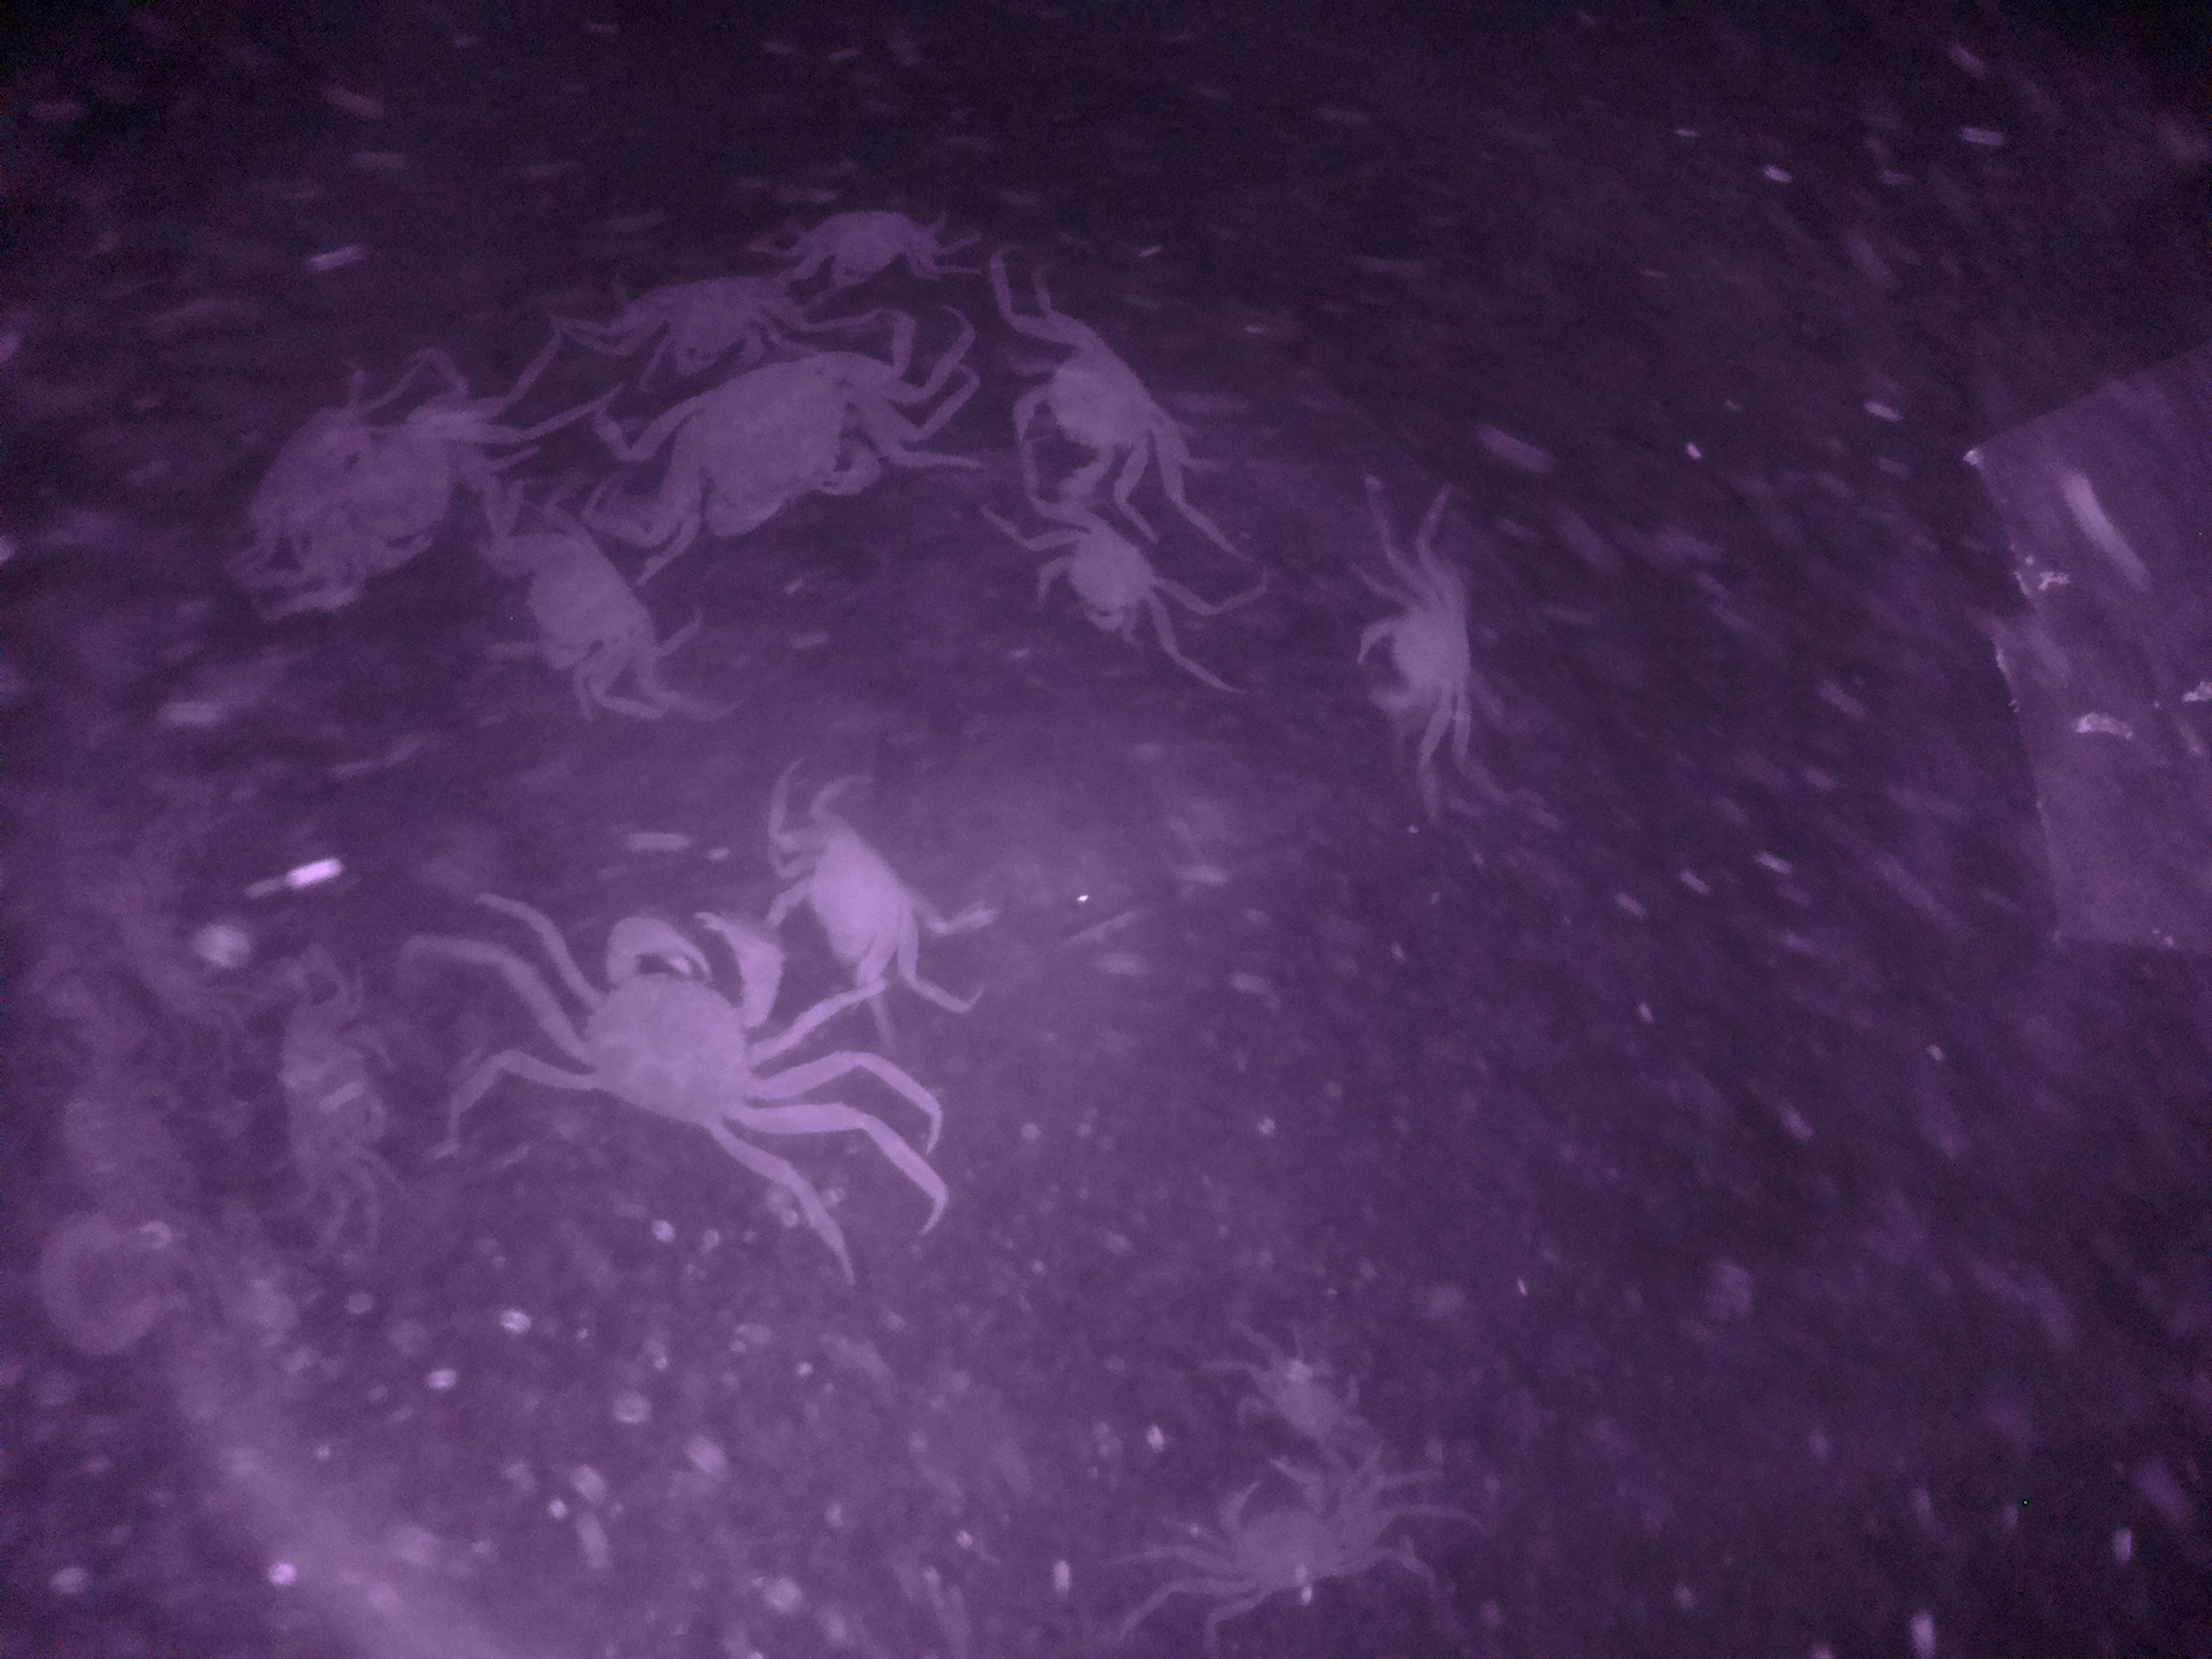Crab: (580, 887, 808, 1171), (653, 342, 930, 542), (770, 796, 972, 1021), (498, 519, 688, 708), (1007, 326, 1170, 488), (1355, 556, 1493, 744), (1026, 511, 1186, 645)
